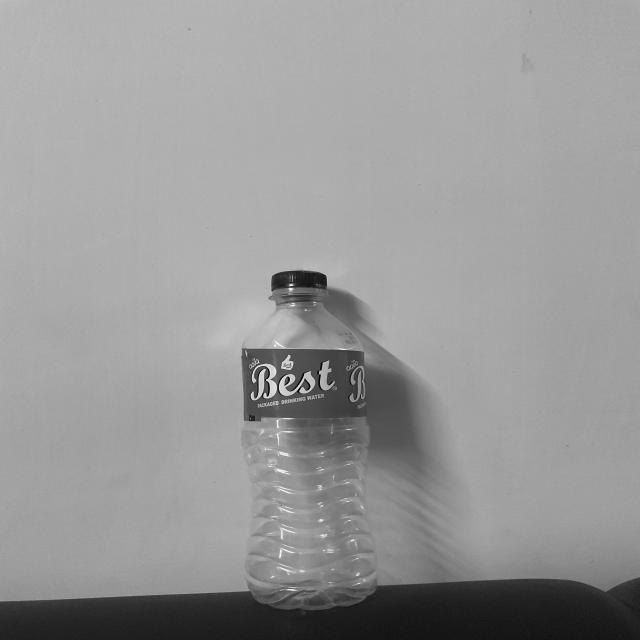Good-cap-Df0S: (267, 270, 331, 298)
